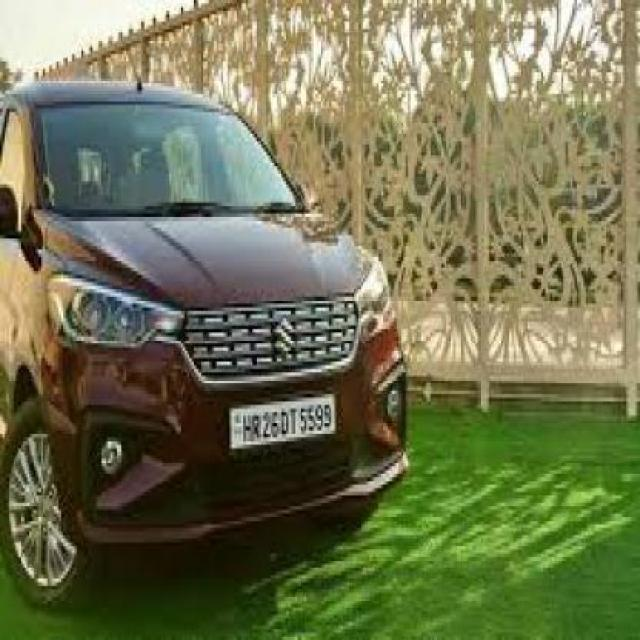vehicle: (2, 62, 430, 620)
